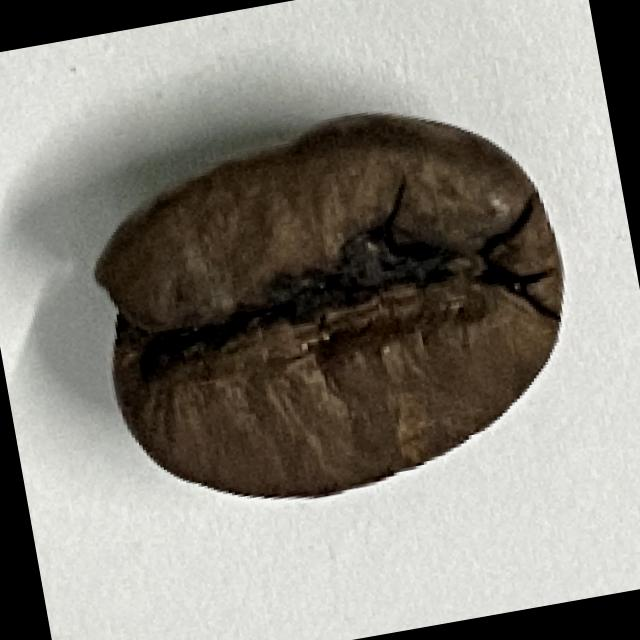bean: (74, 84, 597, 526)
